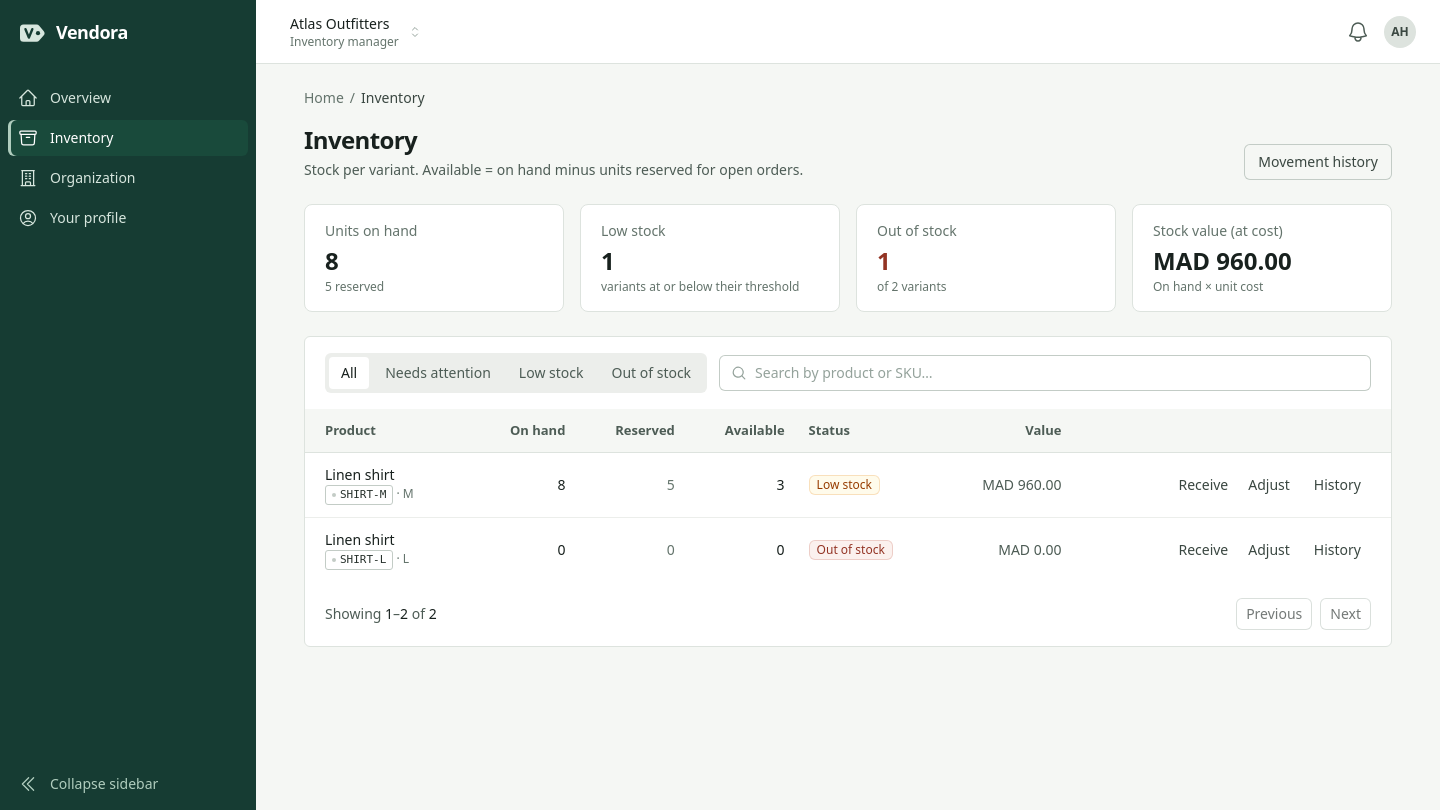
inventory page › receiving stock sends a whole-number quantity for the right store and variant
Step 1. Click the button with aria-label "Receive stock for SHIRT-M" → (1203, 485), box [1168, 469, 1238, 501]
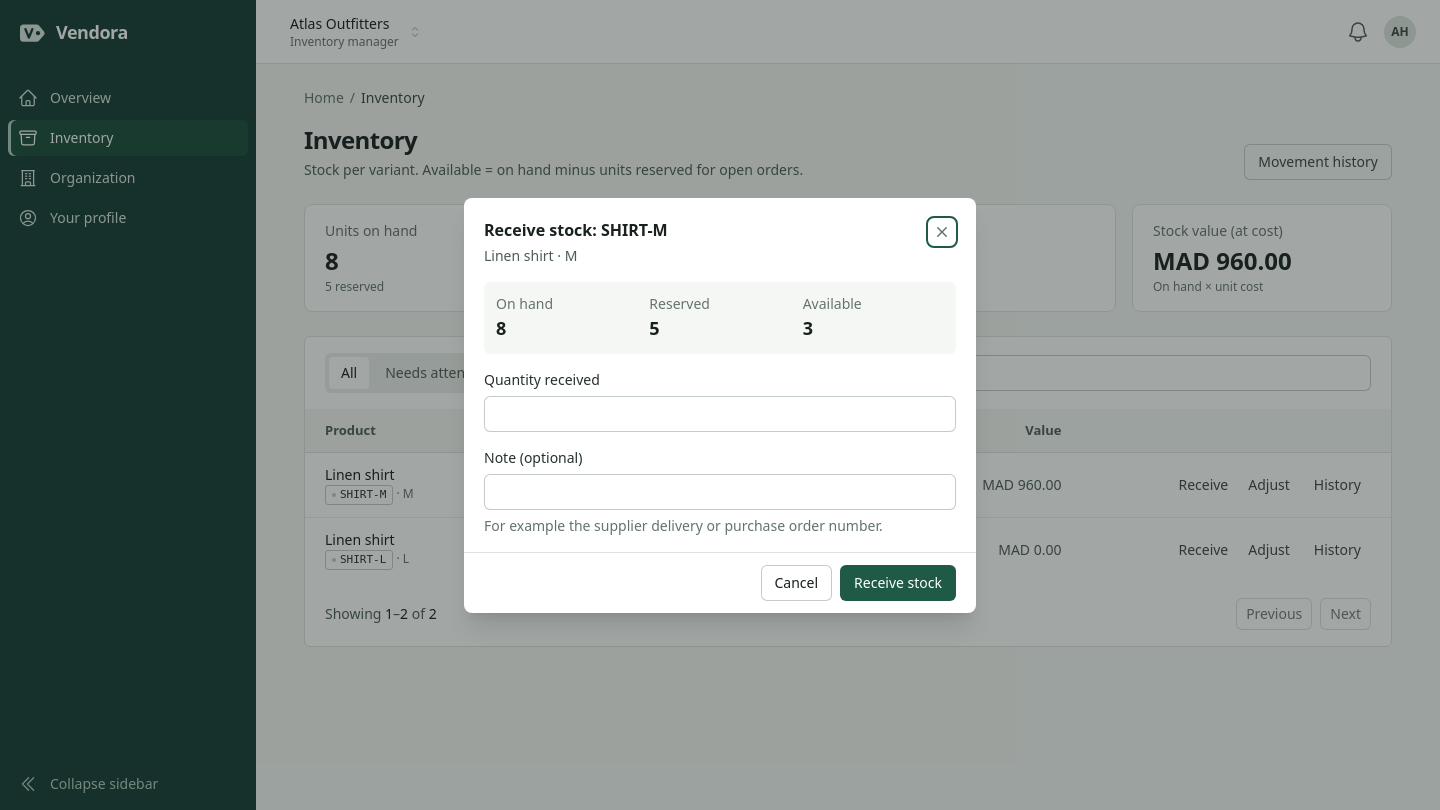
Step 2. Type "1.5" into the field labelled "Quantity received" → (720, 414), box [484, 396, 956, 432]
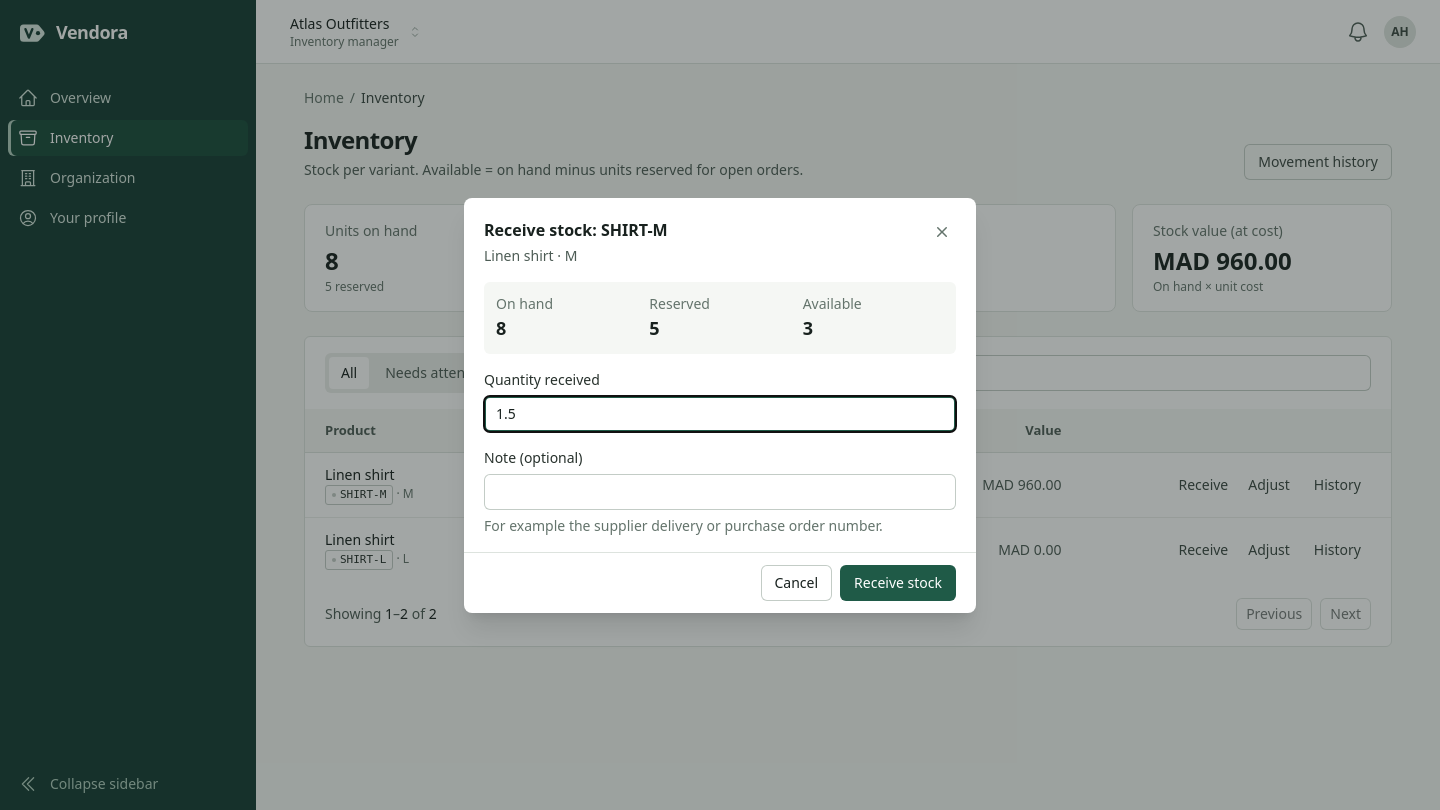
Step 3. Click the button "Receive stock" → (898, 582), box [840, 564, 956, 600]
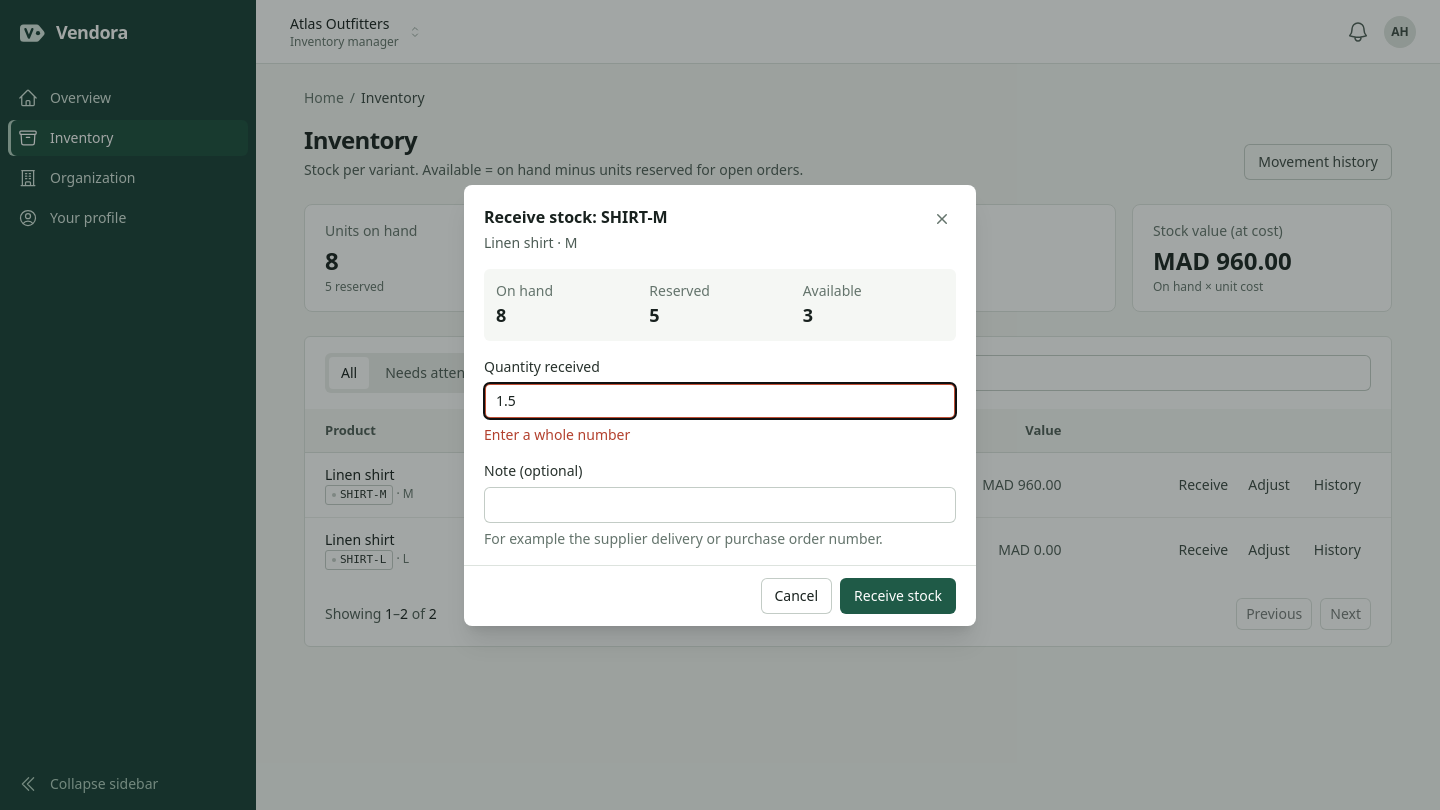
expect the text "Enter a whole number" is shown: met, box [484, 424, 630, 444]
Step 4. Replace the text in the field labelled "Quantity received" with "12" → (720, 400), box [484, 382, 956, 418]
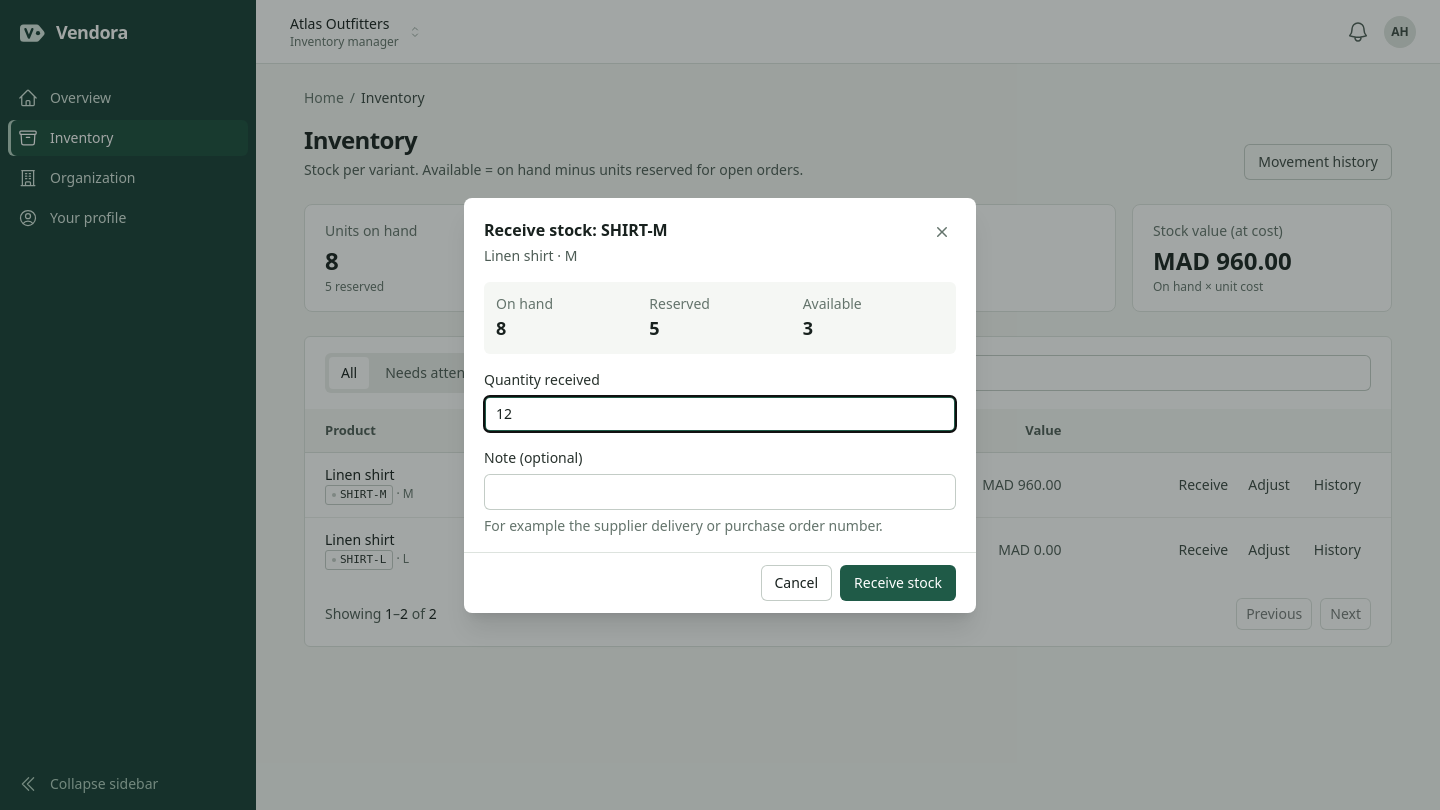
Step 5. Type "PO-1001" into the field labelled "Note (optional)" → (720, 492), box [484, 474, 956, 510]
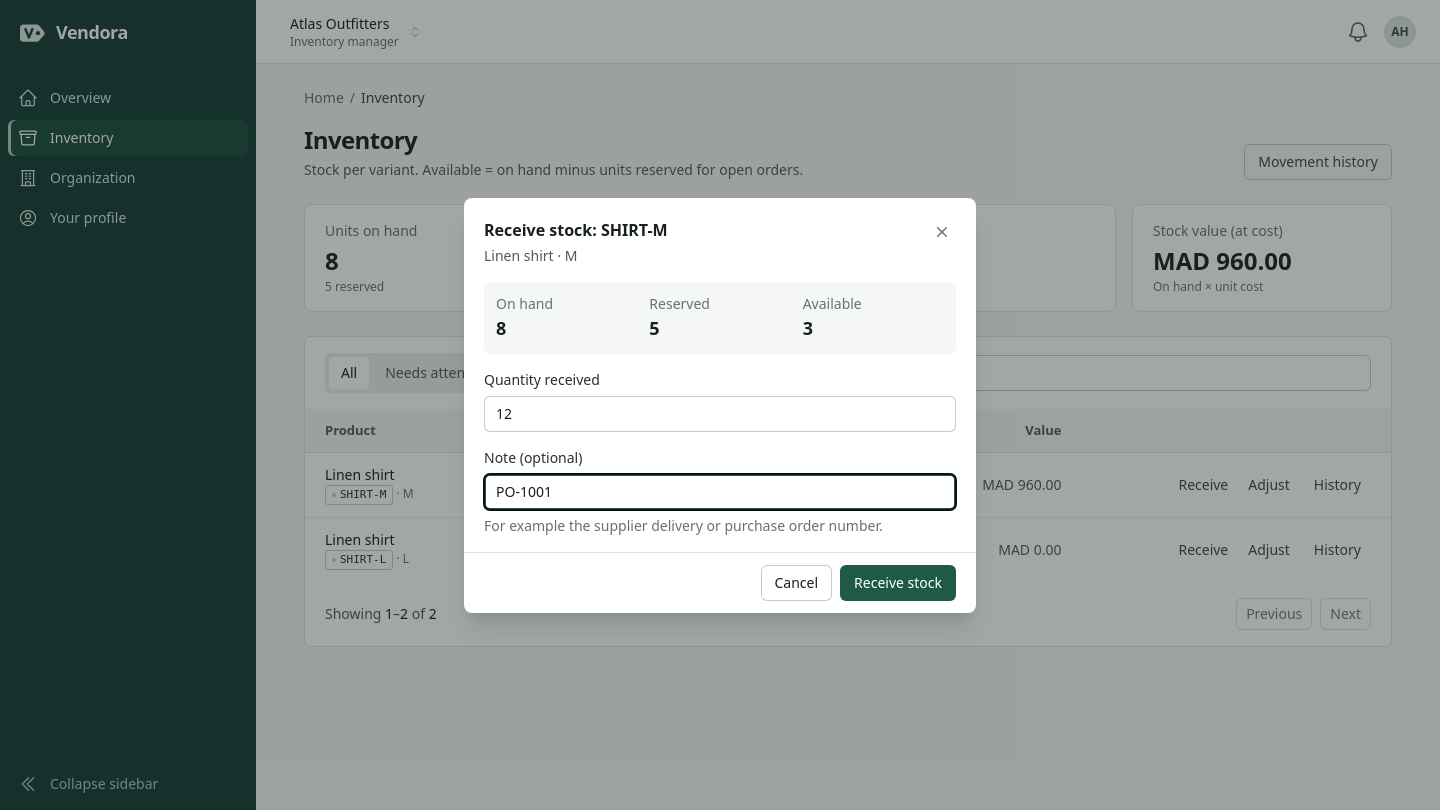
Step 6. Click the button "Receive stock" → (898, 582), box [840, 564, 956, 600]
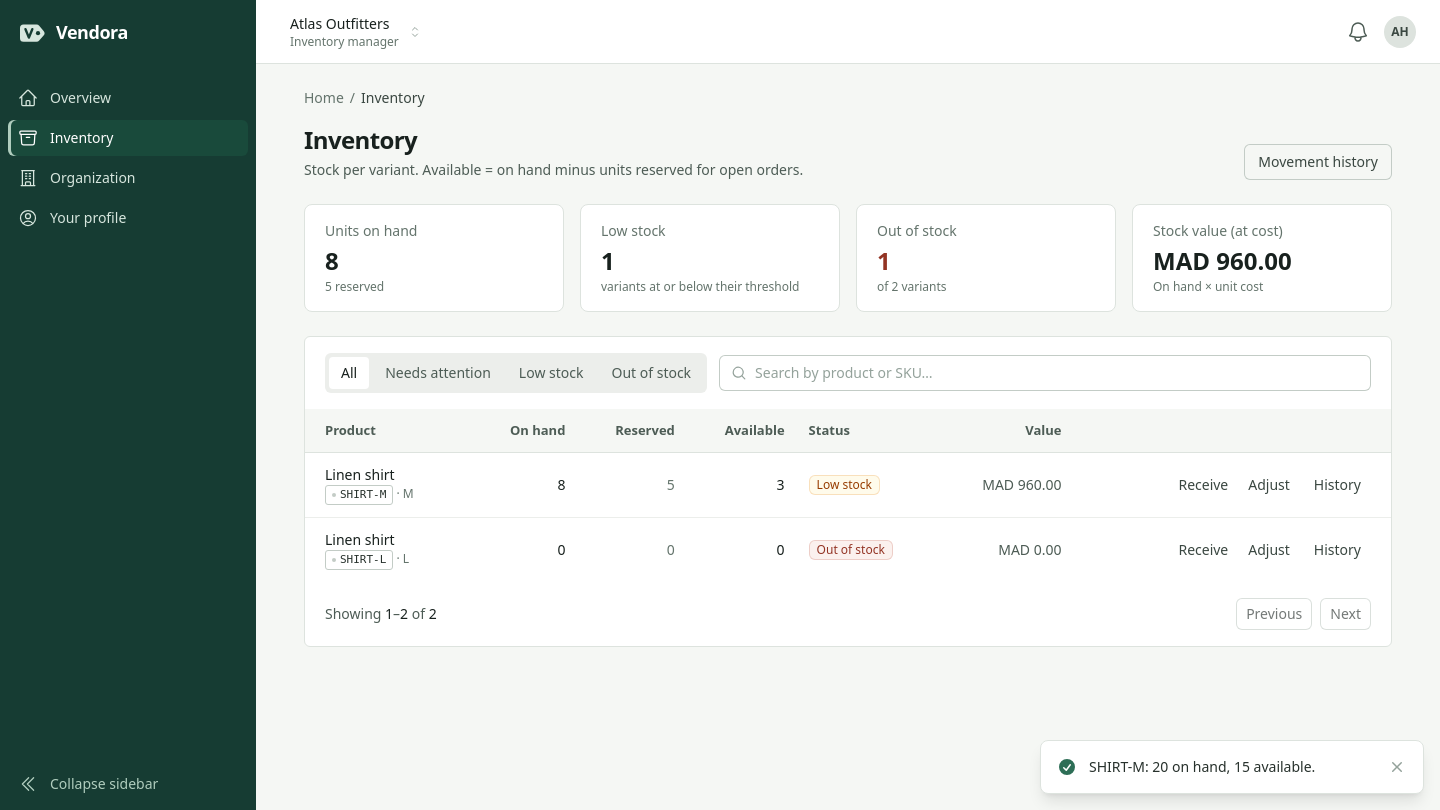
expect the text "SHIRT-M: 20 on hand, 15 available." is shown: met, box [1089, 757, 1315, 776]
